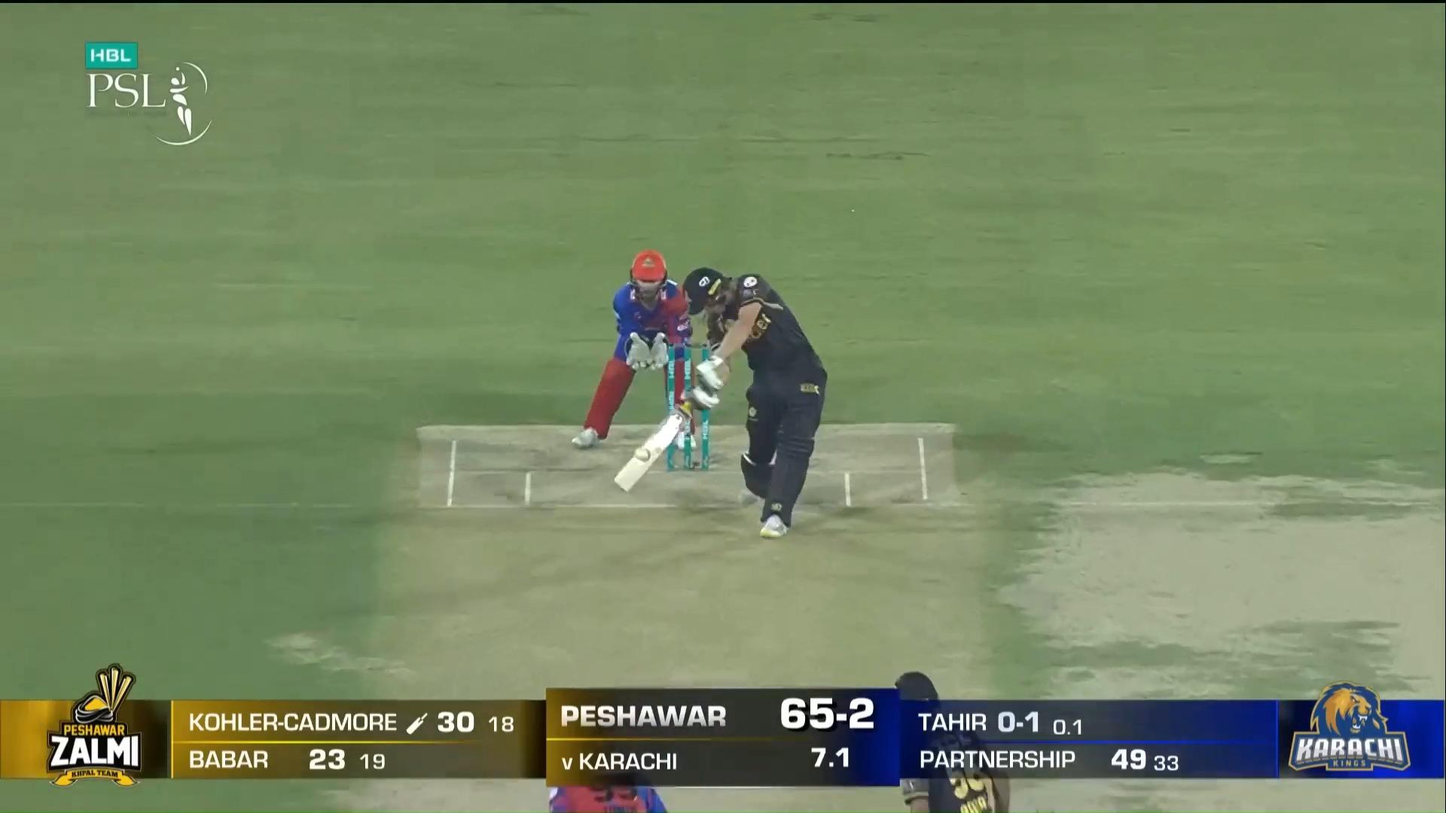batsman: (614, 265, 827, 539)
